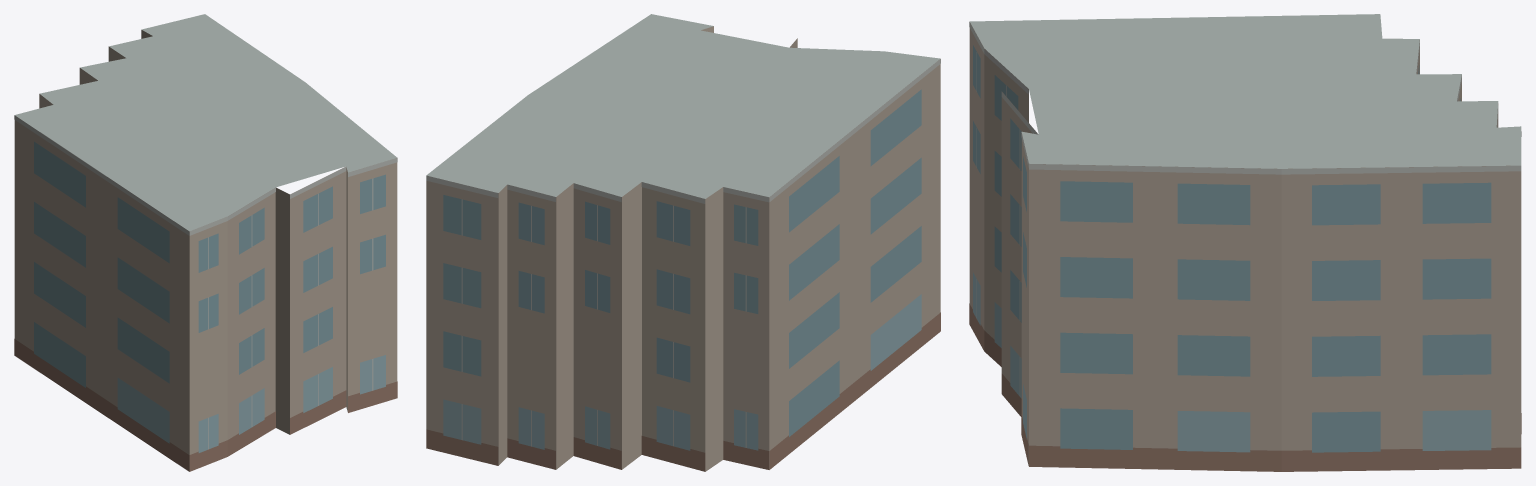
The model's file is survey-upis-32474344.glb.
3 views of the same model, side by side, from view 1: azimuth 30°, elevation 25°; view 2: azimuth 150°, elevation 25°; view 3: azimuth 270°, elevation 25° (orthographic). The views are drawn at different scales.
Visible parts, largest first — view 1: survey-upis-32474344.tmp; view 2: survey-upis-32474344.tmp; view 3: survey-upis-32474344.tmp.
Boxes of the visible parts, x1,y1,x2,y2 form: survey-upis-32474344.tmp: [14, 14, 397, 471]; survey-upis-32474344.tmp: [426, 14, 940, 471]; survey-upis-32474344.tmp: [969, 14, 1521, 471].
Bounding box in the file's own units: 14.15 × 12.9 × 21.31.
